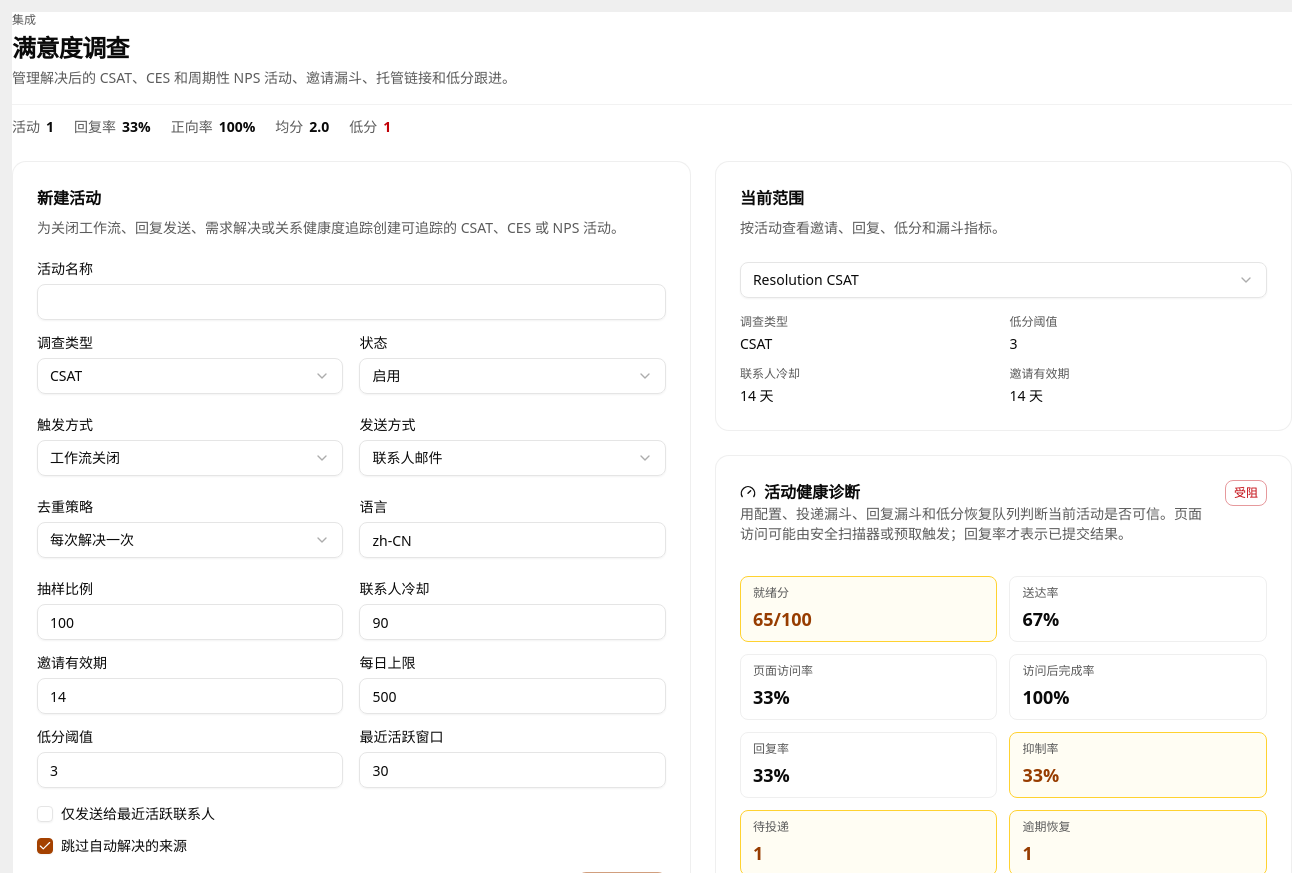
Test: SurveysPage › does not offer disabled cohorts as a new NPS audience
Click the dropdown with test id "survey-type": {"x": 66, "y": 376} [37,358,344,394]
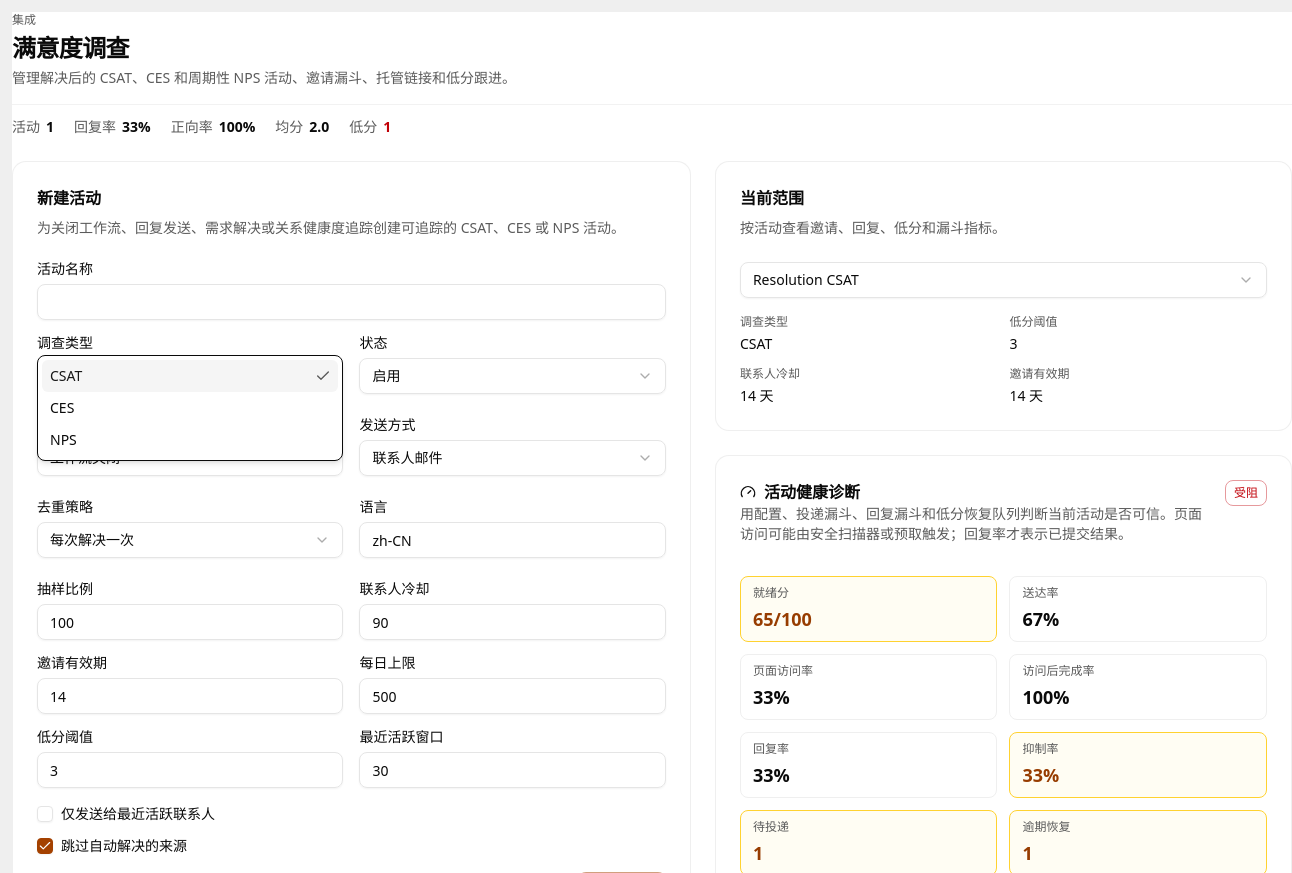
Click the option "NPS": {"x": 63, "y": 440} [50,430,77,449]
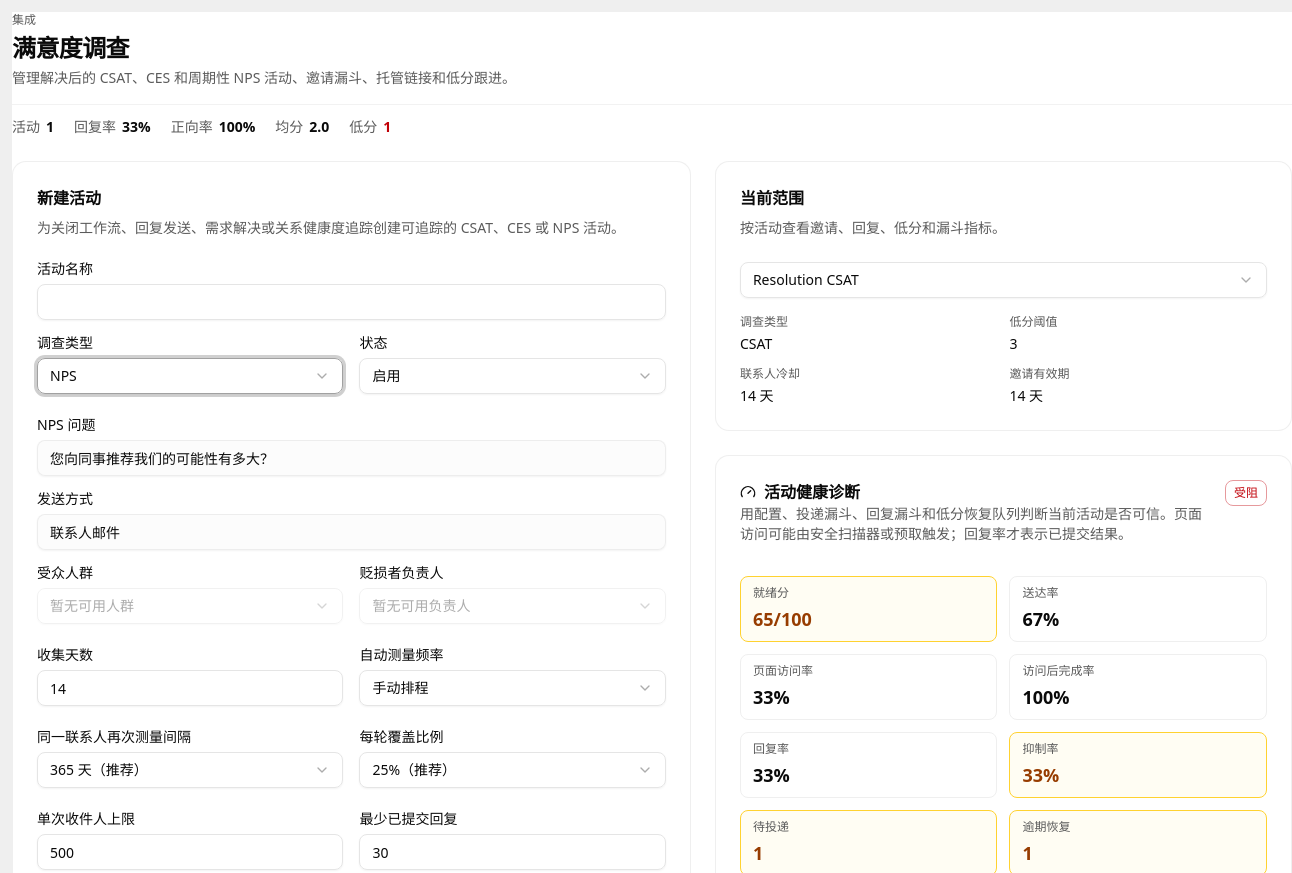
Now the dropdown with test id "survey-nps-cohort" is disabled, box [37,588,344,624]
